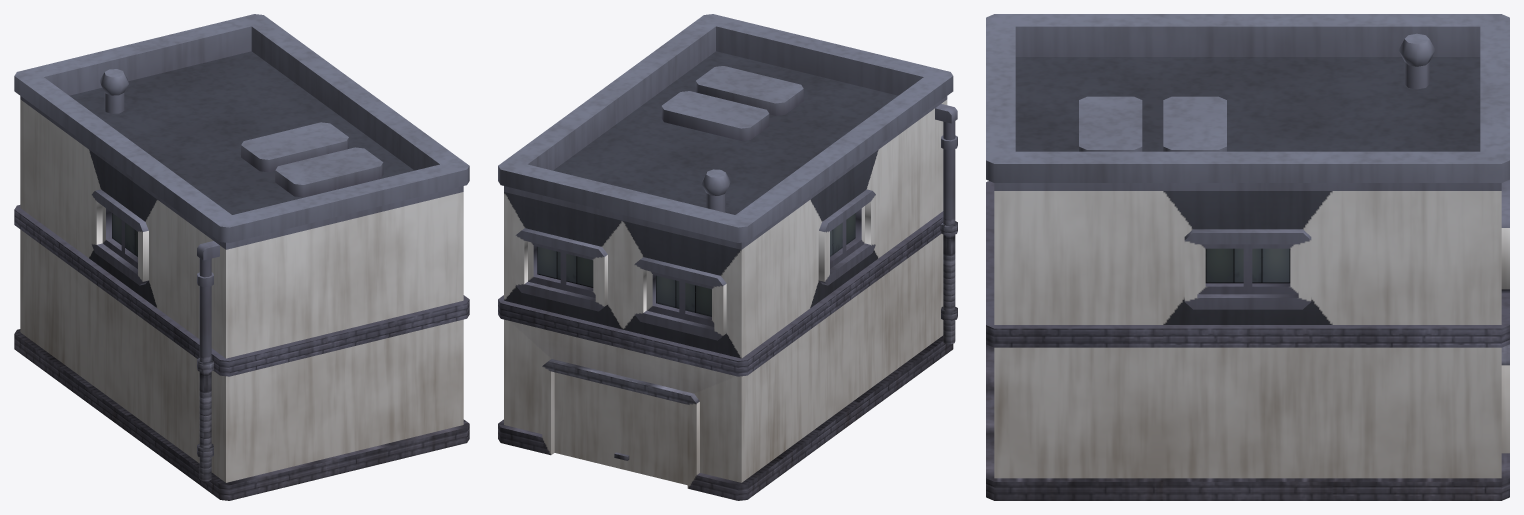
The model's file is building-o-white.glb.
3 views of the same model, side by side, from view 1: azimuth 30°, elevation 25°; view 2: azimuth 150°, elevation 25°; view 3: azimuth 270°, elevation 25° (orthographic). The views are drawn at different scales.
Parts seen in each view (by area): view 1: building-o; view 2: building-o; view 3: building-o.
Boxes of the visible parts, x1,y1,x2,y2 form: building-o: [14, 14, 469, 500]; building-o: [498, 14, 957, 500]; building-o: [986, 14, 1509, 500].
Bounding box in the file's own units: 0.8836 × 0.918 × 1.24.
Materials: 1 (1 with a texture image).
